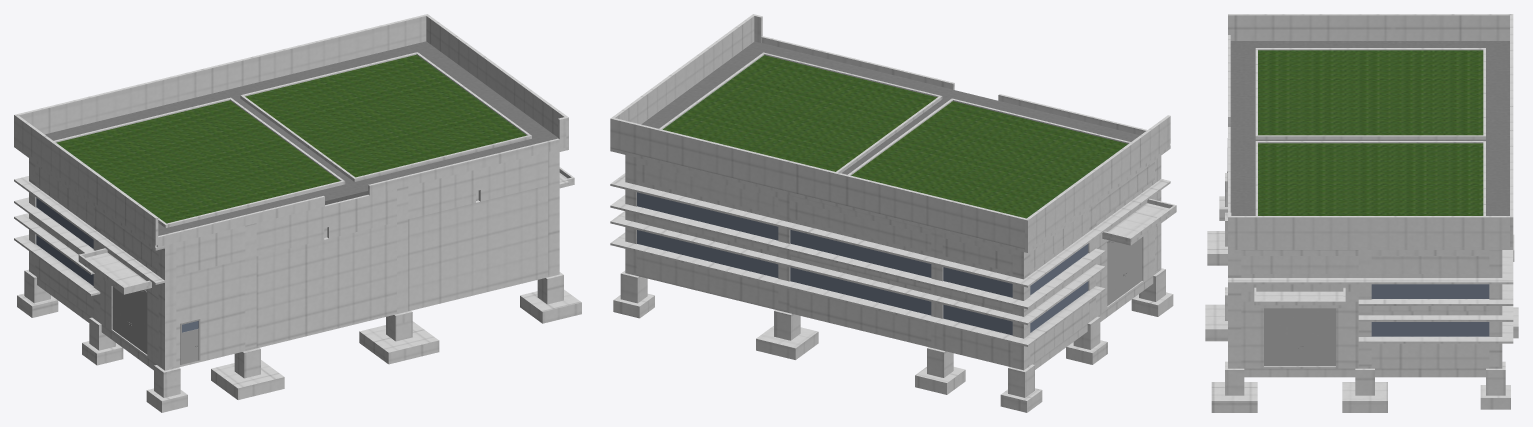
3 views of the same model, side by side, from view 1: azimuth 30°, elevation 25°; view 2: azimuth 150°, elevation 25°; view 3: azimuth 270°, elevation 25° (orthographic).
Parts seen in each view (by area): view 1: uid_0108_加氯车间; view 2: uid_0108_加氯车间; view 3: uid_0108_加氯车间.
Boxes of the visible parts, box(x1,y1,x2,y2) form: uid_0108_加氯车间: box(14, 14, 581, 412); uid_0108_加氯车间: box(610, 14, 1176, 412); uid_0108_加氯车间: box(1205, 14, 1518, 412).
Size of the model in its own units: 2410 by 980 by 1440.
1 material, 1 textured.
